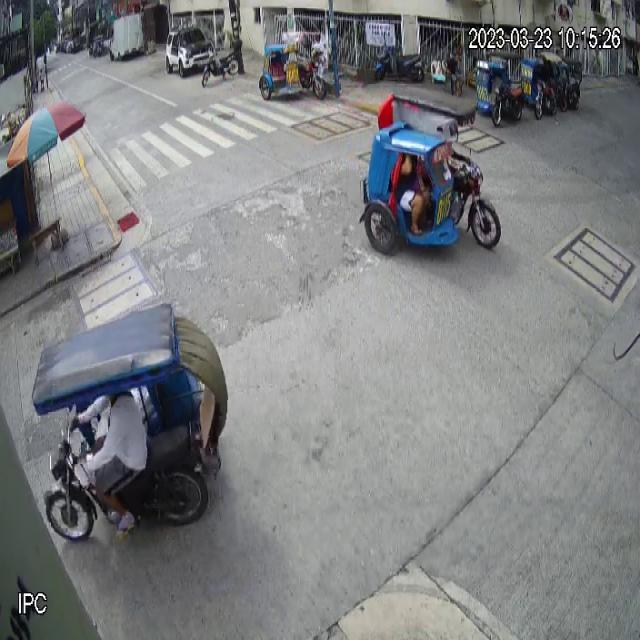Tricycle: (31, 302, 230, 544), (360, 84, 501, 256), (257, 29, 328, 102), (474, 50, 525, 128)
